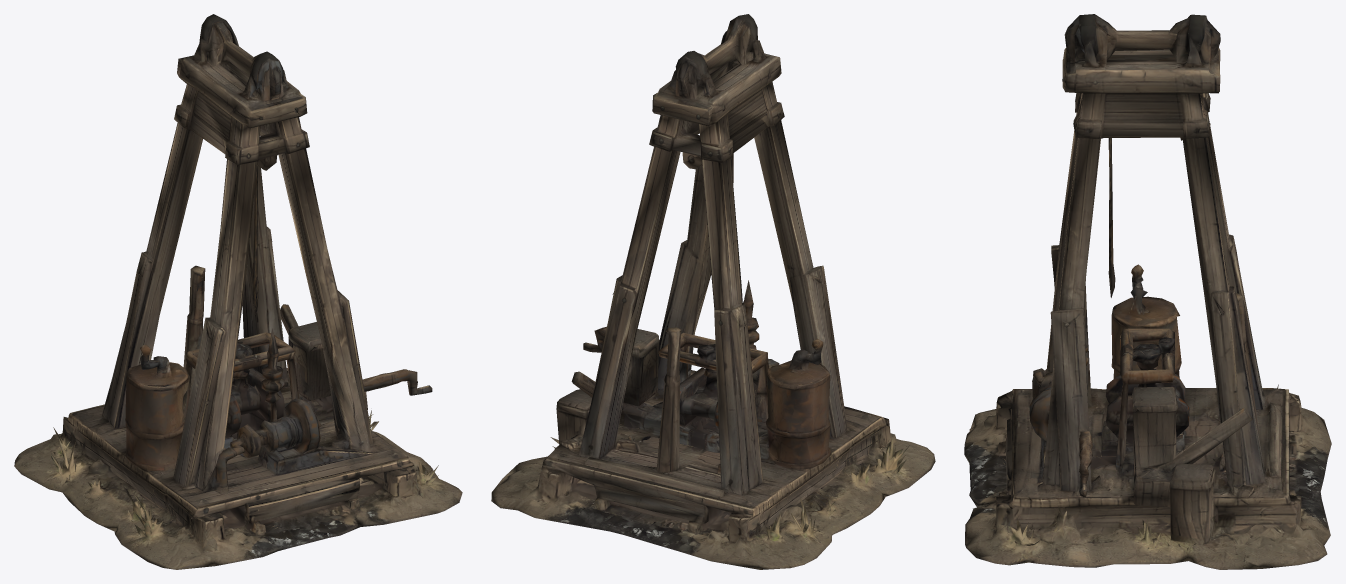
File: SM_WoodOilWell.glb
3 views of the same model, side by side, from view 1: azimuth 30°, elevation 25°; view 2: azimuth 150°, elevation 25°; view 3: azimuth 270°, elevation 25° (orthographic). The views are drawn at different scales.
Visible parts, largest first — view 1: Mesh_0; view 2: Mesh_0; view 3: Mesh_0.
Part boxes in pixels (bbox=[...]): Mesh_0: bbox=[14, 14, 462, 569]; Mesh_0: bbox=[491, 14, 935, 569]; Mesh_0: bbox=[964, 14, 1331, 569].
Size of the model in its own units: 1.89 by 2.5 by 1.76.
Materials: 1 (1 with a texture image).
